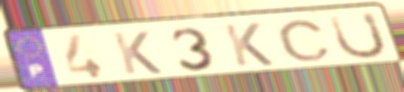3: (169, 25, 215, 72)
4: (65, 32, 106, 81)
C: (276, 19, 334, 63)
K: (220, 21, 276, 68), (109, 30, 165, 76)
U: (327, 10, 390, 61)
